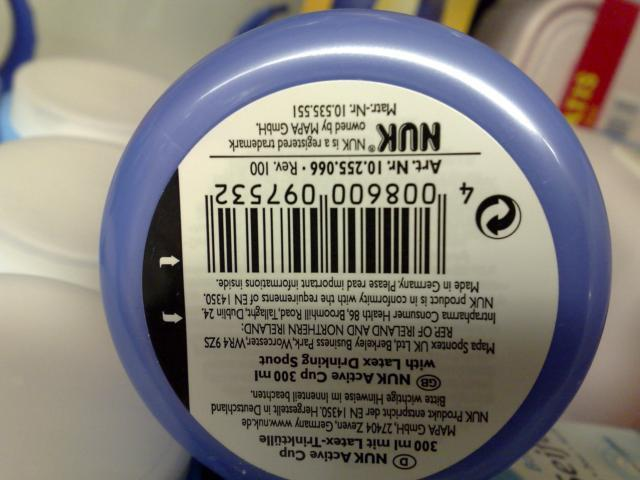Barcode: (196, 176, 476, 278)
